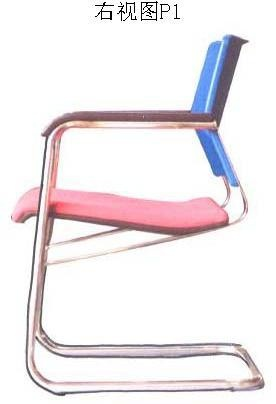obstacle: (12, 35, 263, 394)
